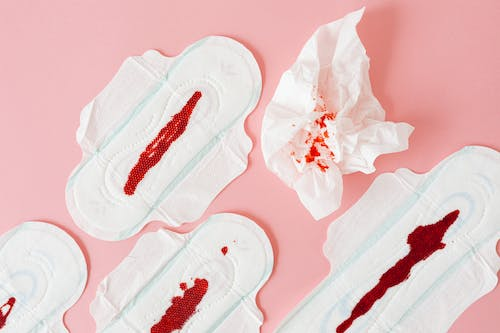blood: (335, 207, 460, 333), (122, 89, 203, 196), (149, 238, 237, 333), (287, 83, 339, 177), (0, 292, 17, 333)
